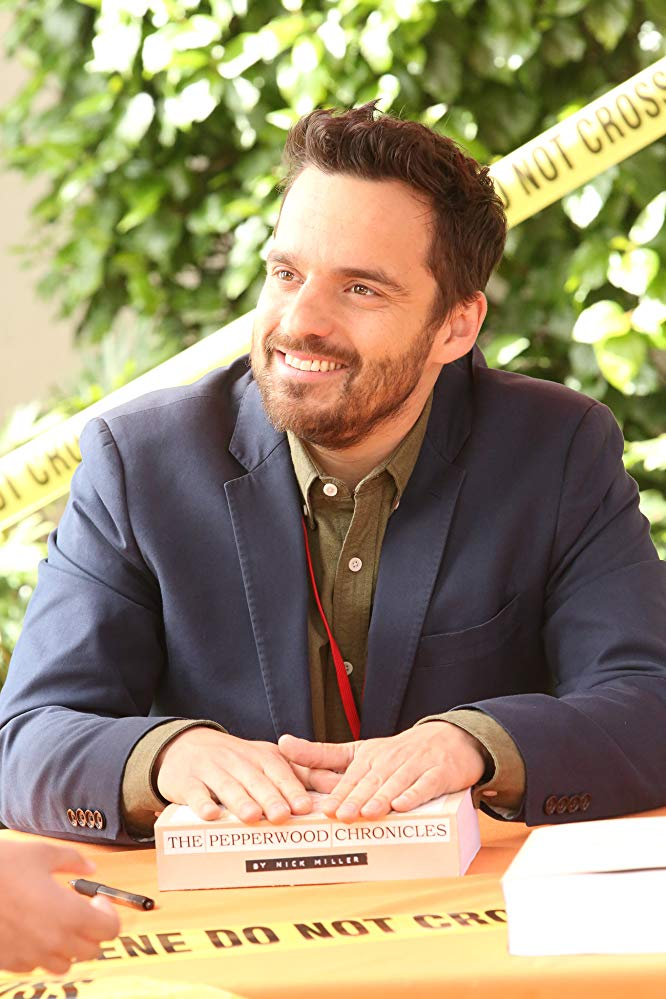person: (22, 105, 666, 816)
